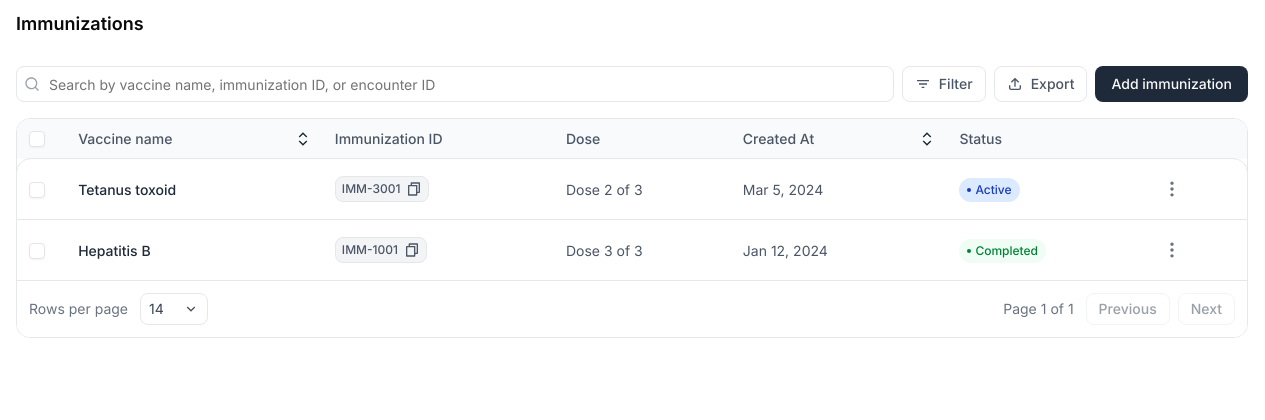
Test: Immunizations table › only offers status changes on active immunizations
Click the button named "Open actions for Tetanus toxoid". click: click(1172, 189)
box: [1154,171,1190,207]
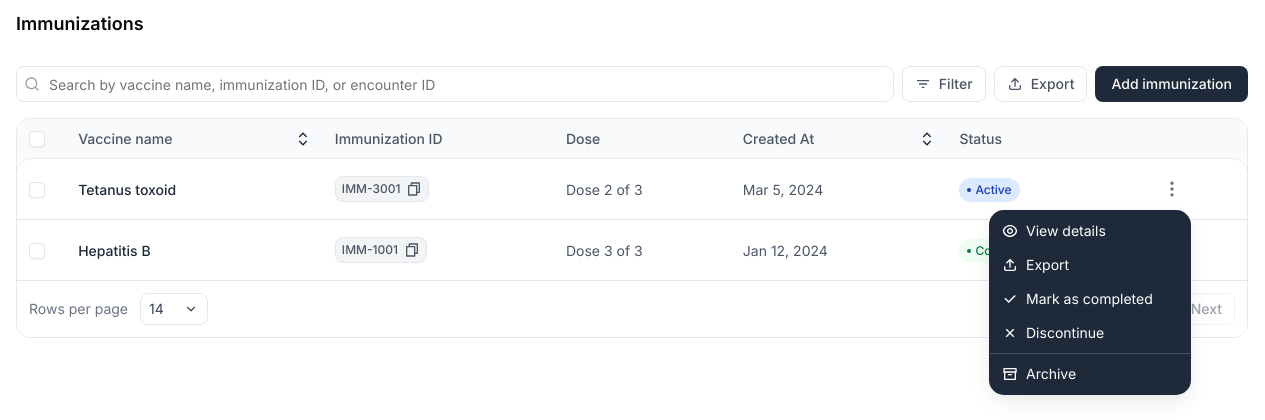
Expected: the menu item "Mark as completed" is shown, [1002,290,1153,307]
Expected: the menu item "Discontinue" is shown, [1002,324,1104,341]
Press Escape
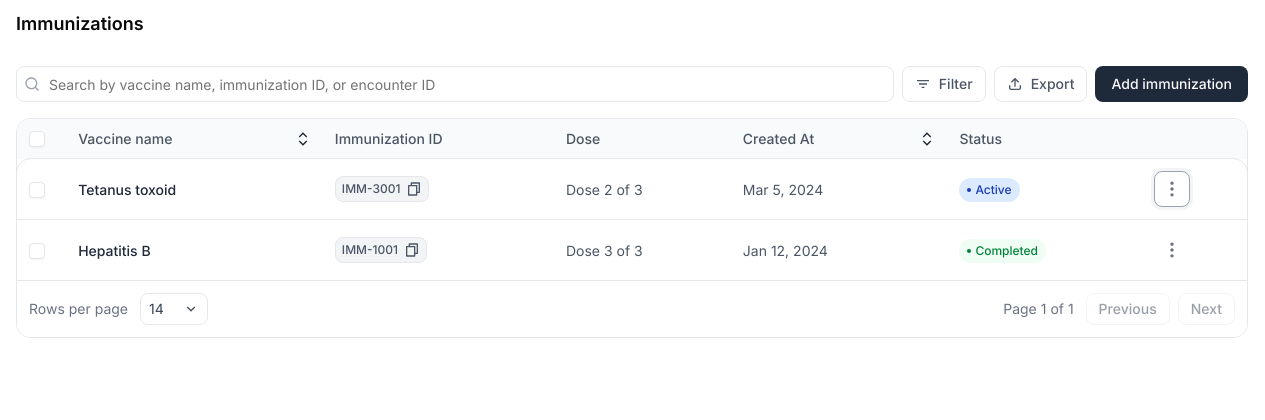
Click the button named "Open actions for Hepatitis B". click: click(1172, 250)
box: [1154,232,1190,268]
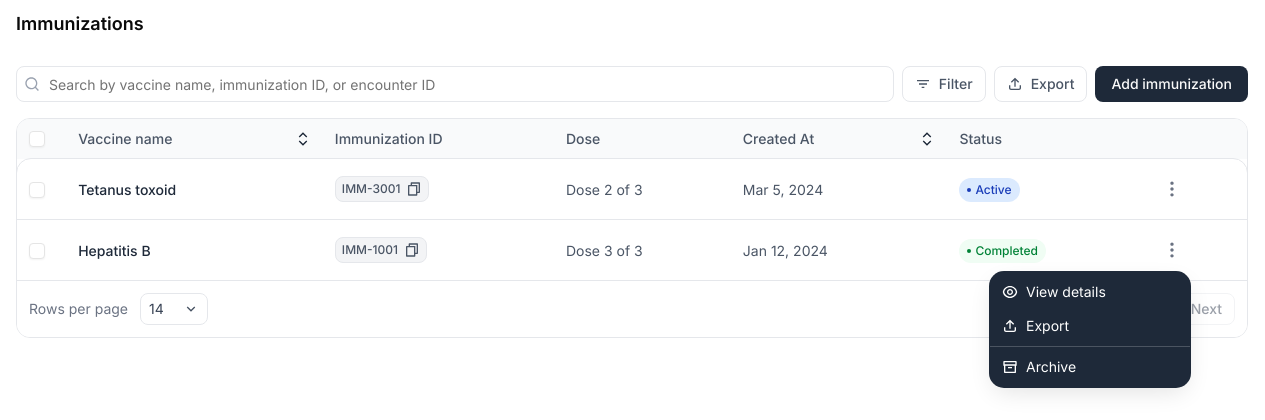
Expected: the menu item "Mark as completed" is not shown
Expected: the menu item "View details" is shown, [1002,283,1106,300]
